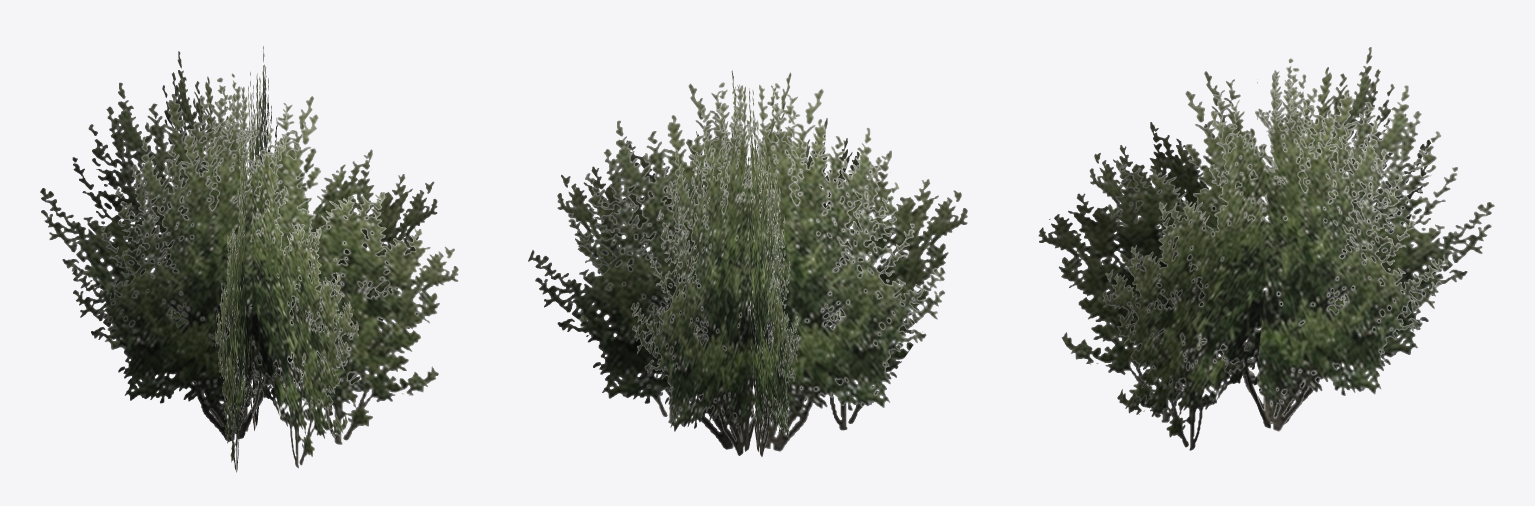
The model's file is SM_Generic_Plant_04.fbx.
The picture shows the model from 3 angles, left to right: view 1: azimuth 30°, elevation 25°; view 2: azimuth 150°, elevation 25°; view 3: azimuth 270°, elevation 25°; orthographic projection. The views are drawn at different scales.
Visible parts, largest first — view 1: SM_Generic_Plant_04_LOD0; view 2: SM_Generic_Plant_04_LOD0; view 3: SM_Generic_Plant_04_LOD0.
Boxes of the visible parts, left/top/right/bottom form: SM_Generic_Plant_04_LOD0: left=40, top=46, right=458, bottom=472; SM_Generic_Plant_04_LOD0: left=528, top=70, right=967, bottom=456; SM_Generic_Plant_04_LOD0: left=1038, top=47, right=1494, bottom=450.
Size of what is drawn, in the model's own units: 0.6667 by 0.5675 by 0.7004.
